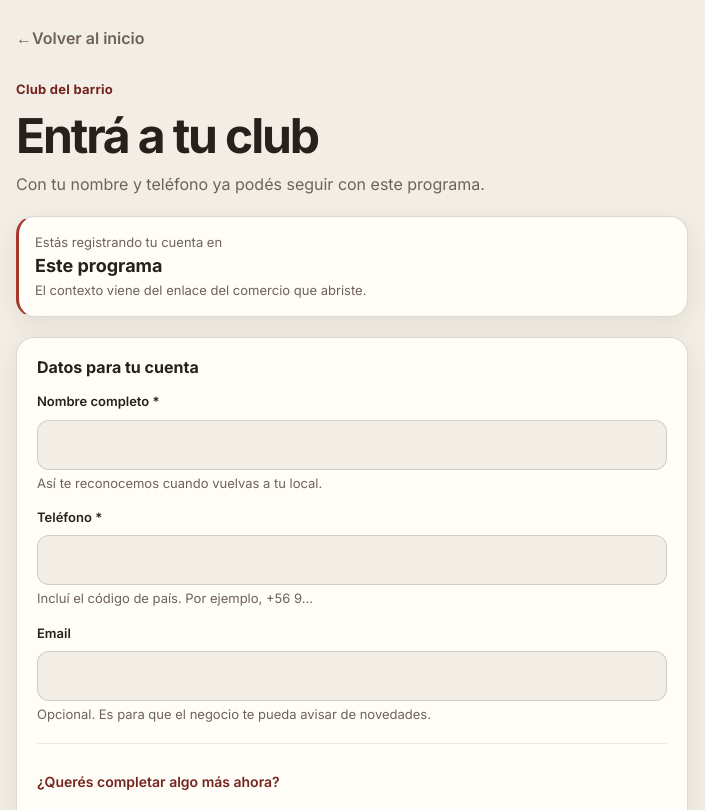
it: registration behavior › shows partial success and locks the form when login fails after customer creation
This screenshot has width=705, height=810.
Step 1. Type "Ada Lovelace" into the field labelled "Nombre completo *" → (352, 445), box [37,420,667,470]
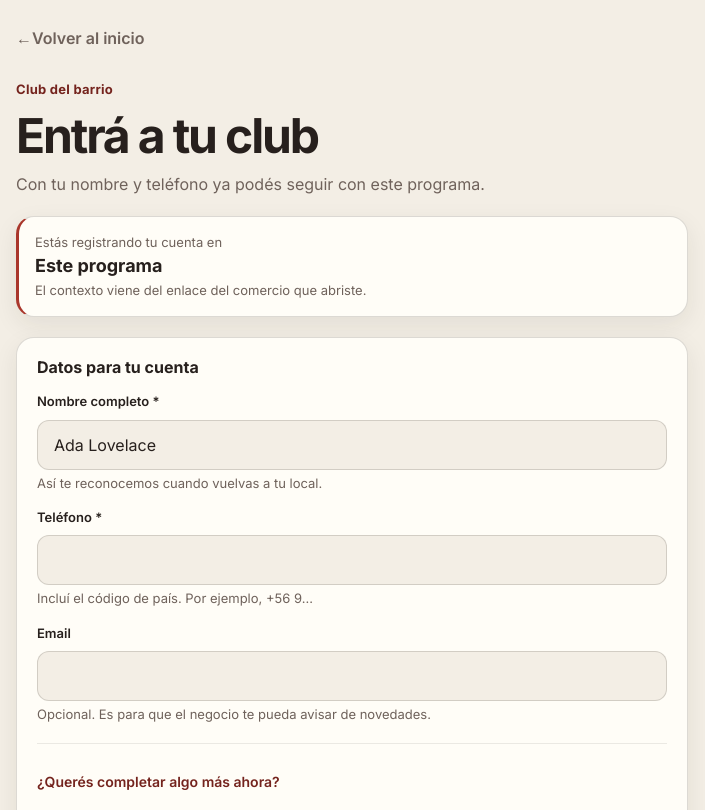
Step 2. Type "+56 9 1234 5678" into the field labelled "Teléfono *" → (352, 560), box [37,535,667,585]
(page scrolled)
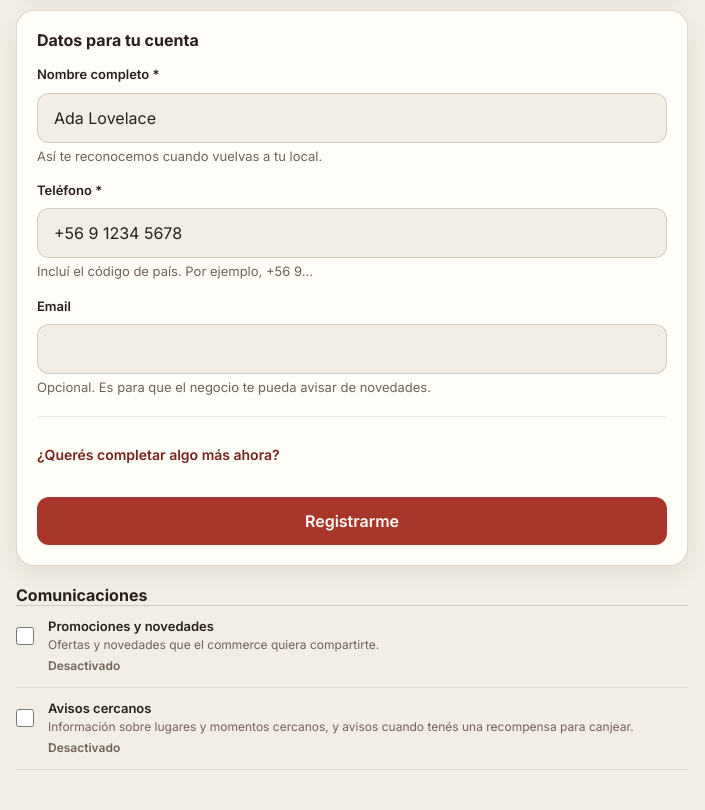
Step 3. Click the button "Registrarme" → click(352, 521), box [37,497,667,545]
(page scrolled)
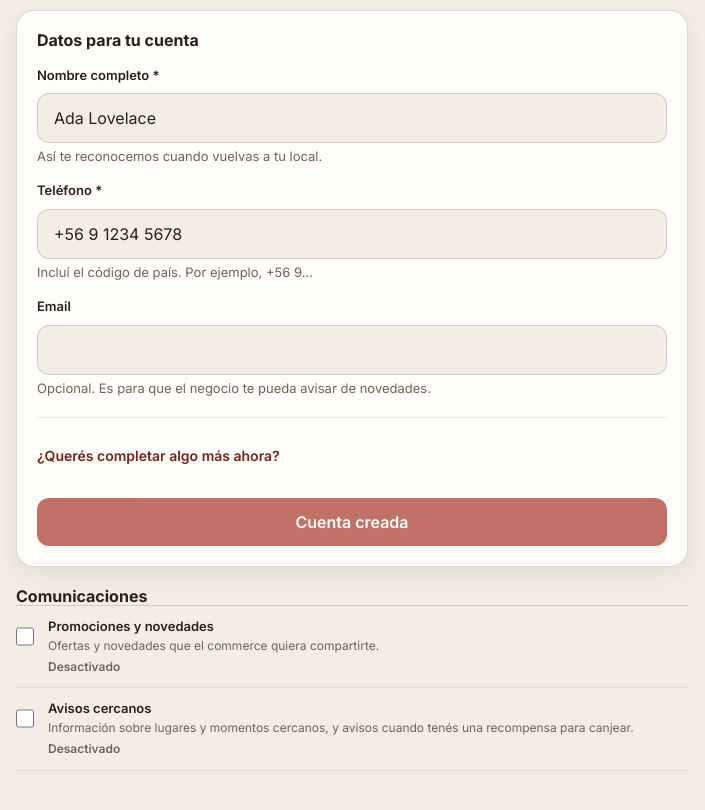
Expected: the button "Cuenta creada" is disabled, [37,498,667,546]
